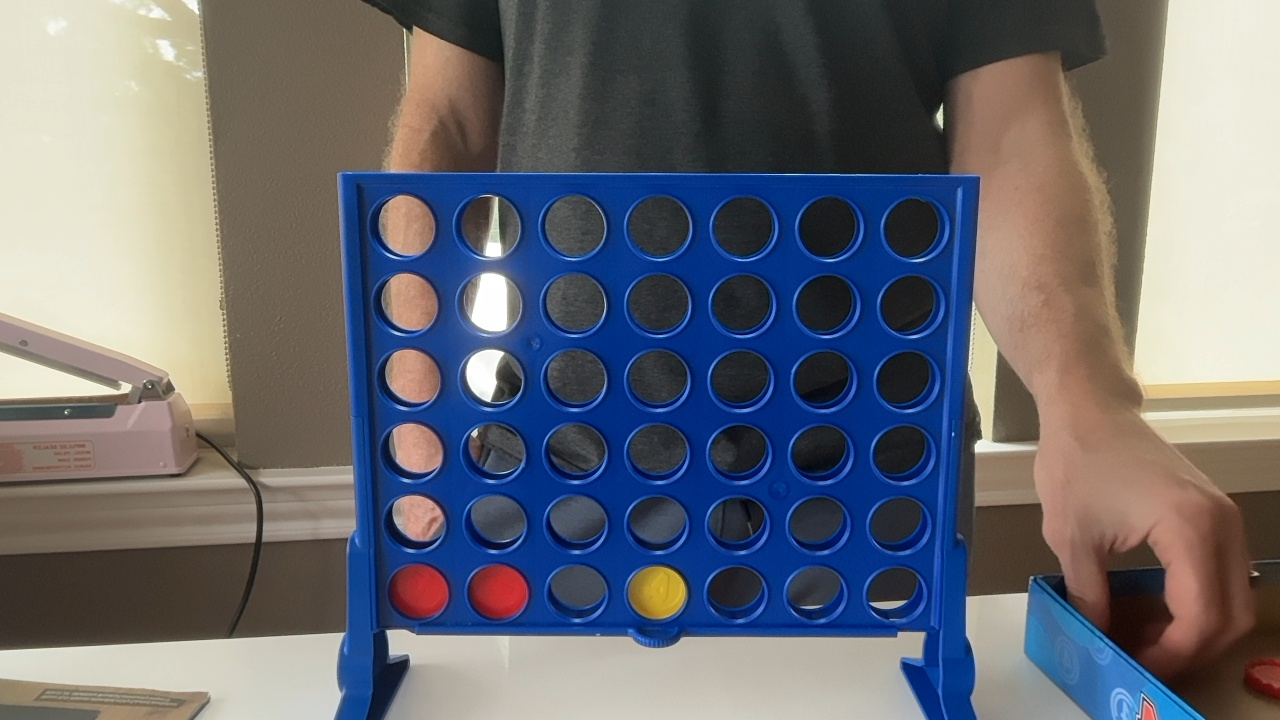red piece: (468, 564, 528, 620), (389, 564, 448, 618)
yellow piece: (627, 565, 687, 620)
